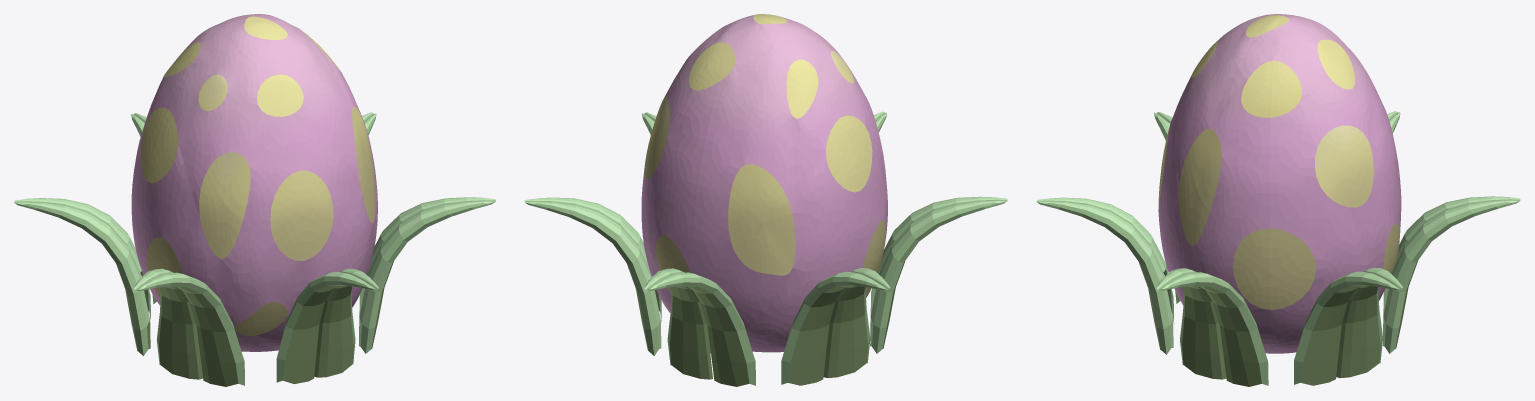
File: easterEgg.glb
The picture shows the model from 3 angles, left to right: view 1: azimuth 30°, elevation 25°; view 2: azimuth 150°, elevation 25°; view 3: azimuth 270°, elevation 25°; orthographic projection.
Visible parts, largest first — view 1: egg.002, egg.003, grass.005, grass, grass.004, grass.001; view 2: egg.002, egg.003, grass.004, grass.003, grass.002, grass.005; view 3: egg.002, egg.003, grass.001, grass.002, grass, grass.003.
Part boxes in pixels (x1,y1,x2,y2): egg.002: (131,14,377,351); egg.003: (141,16,375,335); grass.005: (133,268,244,386); grass: (276,268,378,383); grass.004: (14,198,150,355); grass.001: (359,197,495,353); egg.002: (641,15,887,352); egg.003: (644,14,885,296); grass.004: (781,268,890,385); grass.003: (644,268,755,386); grass.002: (524,197,661,355); grass.005: (870,196,1007,353); egg.002: (1158,14,1401,353); egg.003: (1158,15,1399,309); grass.001: (1156,268,1268,386); grass.002: (1294,267,1402,385); grass: (1036,197,1174,354); grass.003: (1382,196,1520,353).
Bounding box in the file's own units: 1.18 × 0.9786 × 1.35.
